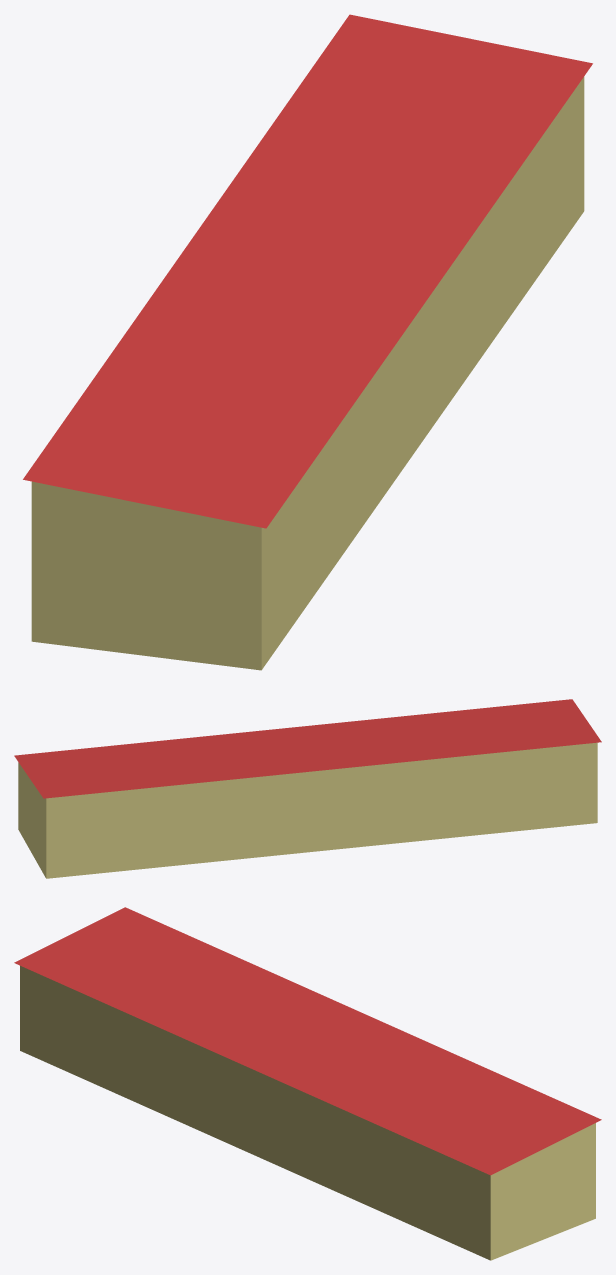
3 views of the same model, one above another, from view 1: azimuth 30°, elevation 25°; view 2: azimuth 150°, elevation 25°; view 3: azimuth 270°, elevation 25° (orthographic). The views are drawn at different scales.
Bounding box in the file's own units: 35.34 × 34.15 × 6.34.
